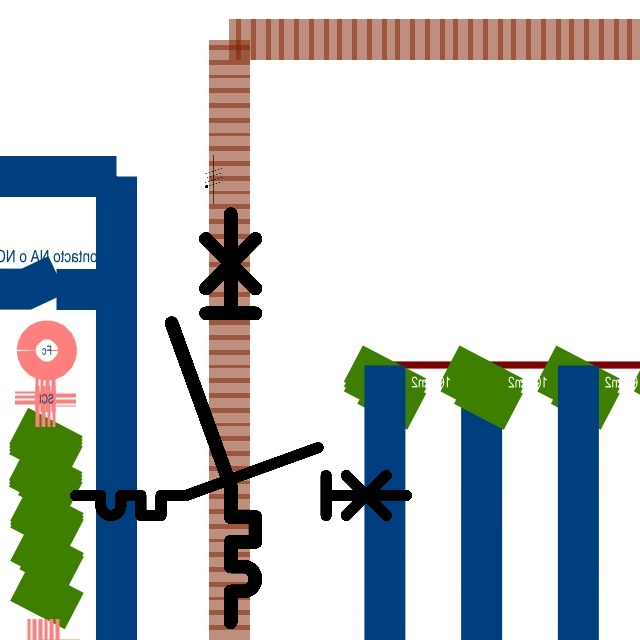interruptor_termomagnetico: (161, 203, 266, 632), (67, 439, 415, 524)
